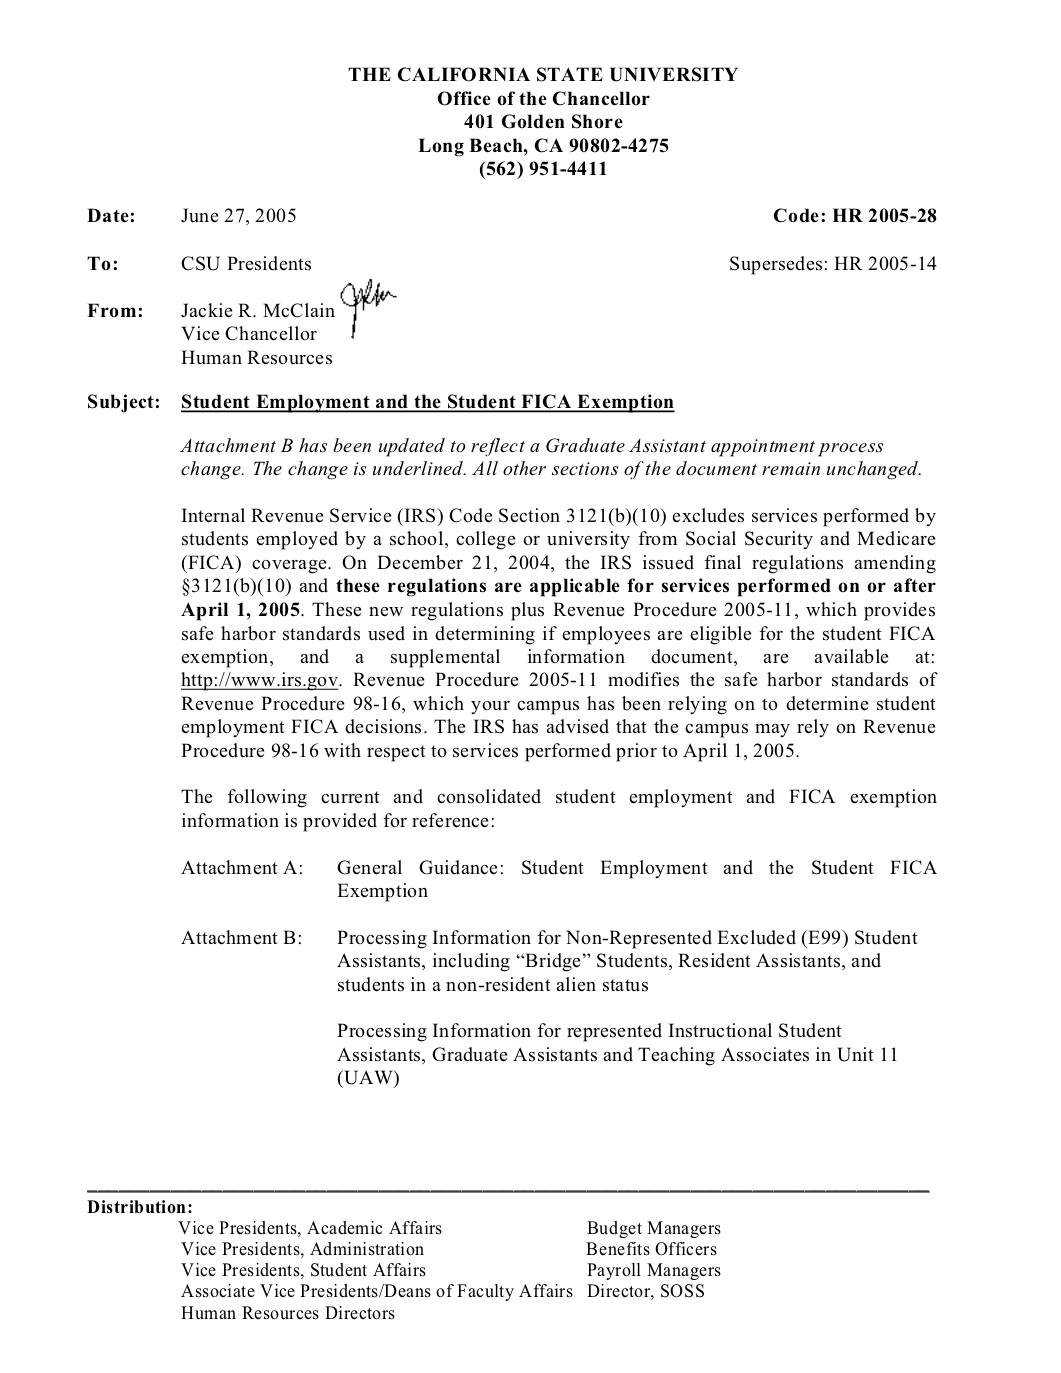figure: (340, 277, 396, 338)
